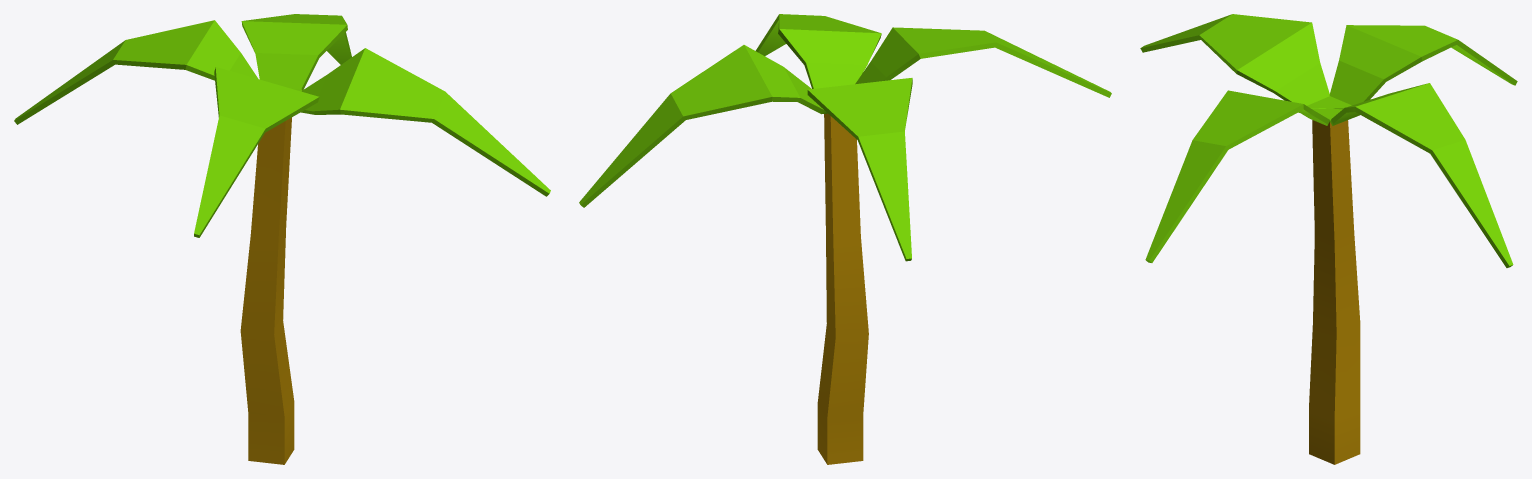
Rendered from palmtree.glb.
The picture shows the model from 3 angles, left to right: view 1: azimuth 30°, elevation 25°; view 2: azimuth 150°, elevation 25°; view 3: azimuth 270°, elevation 25°; orthographic projection. The views are drawn at different scales.
Visible parts, largest first — view 1: leaves, trunk; view 2: leaves, trunk; view 3: leaves, trunk.
Part boxes in pixels (bbox=[...]): leaves: bbox=[14, 14, 550, 237]; trunk: bbox=[240, 117, 294, 464]; leaves: bbox=[579, 14, 1111, 261]; trunk: bbox=[817, 113, 868, 464]; leaves: bbox=[1140, 14, 1517, 267]; trunk: bbox=[1309, 120, 1360, 464].
Size of the model in its own units: 15.62 by 17.15 by 14.67.
